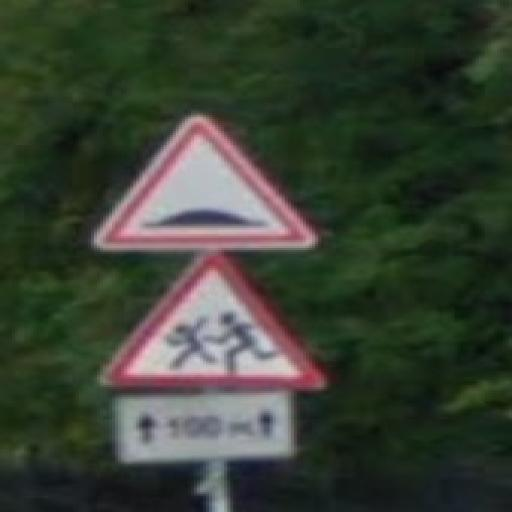traffic_sign: (89, 112, 319, 253), (101, 253, 331, 392)
